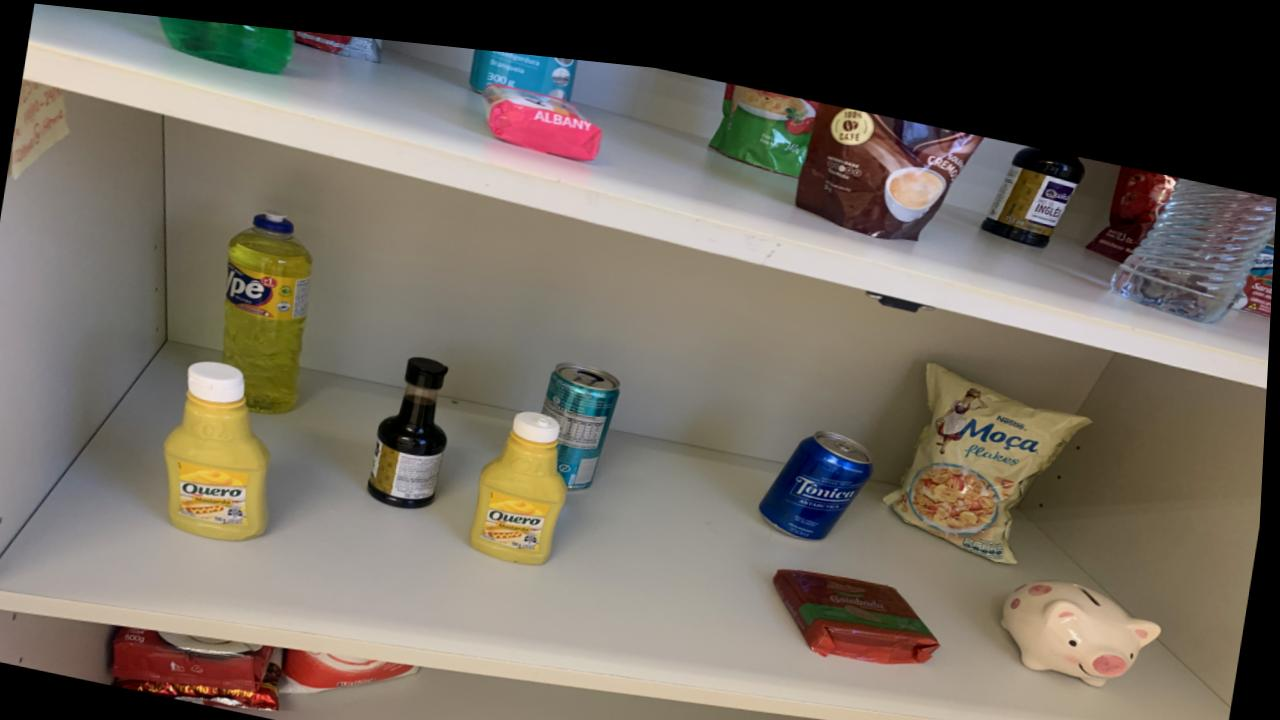Cleaner-Cleanup_Items: (470, 39, 577, 87)
Coffee-Pantry_Items: (796, 84, 984, 220)
Detergent-Cleanup_Items: (226, 205, 316, 408), (160, 13, 295, 68)
English_Sauce-Pantry_Items: (373, 347, 452, 499), (984, 123, 1085, 225)
Flakes-Snacks: (887, 342, 1093, 541)
Guava-Snacks: (778, 551, 945, 644)
Mustard-Pantry_Items: (168, 356, 274, 535), (476, 399, 571, 552)
Pig_Safe-Miscellaneous: (1007, 557, 1167, 662)
Soap-Cleanup_Items: (482, 72, 603, 148)
Tea-Drinks: (546, 349, 623, 477)
Tomato_Sauce-Pantry_Items: (710, 67, 817, 159), (1088, 141, 1177, 236), (295, 24, 383, 54)
Tonic-Drinks: (764, 412, 877, 521)
Tuna_Can-Pantry_Items: (1235, 216, 1275, 290)
Water_Bottle-Drinks: (1113, 152, 1277, 296)
